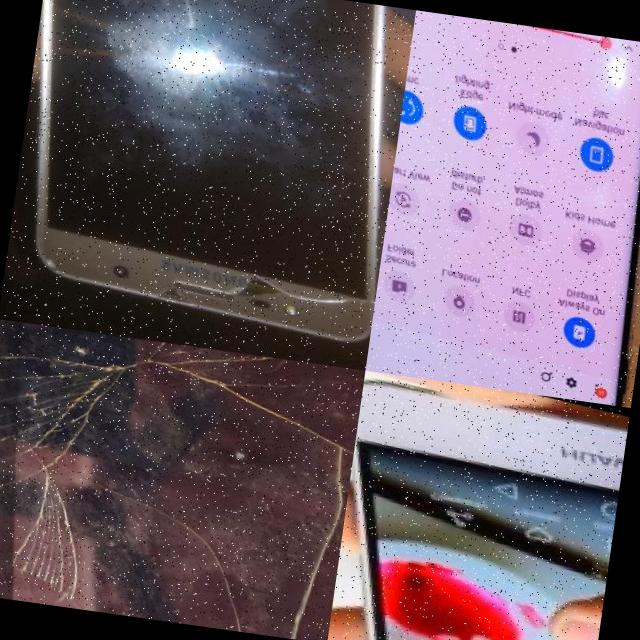screen crack: (0, 319, 297, 520), (134, 411, 355, 640), (92, 202, 382, 348)
